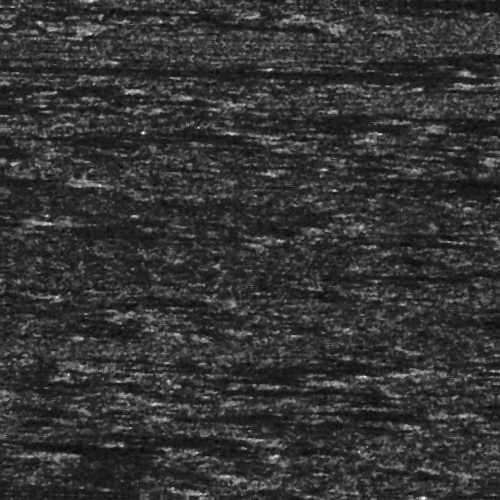object: (308, 355, 423, 378), (254, 369, 379, 388), (20, 179, 103, 188), (9, 221, 92, 230), (0, 451, 66, 462), (214, 430, 267, 441), (133, 443, 186, 454), (118, 91, 201, 98), (453, 232, 500, 241), (471, 66, 500, 79), (246, 129, 257, 138), (279, 24, 310, 27), (371, 386, 402, 389), (0, 497, 28, 500)
shadow: (38, 66, 500, 79), (178, 355, 365, 378), (47, 430, 240, 441), (0, 443, 160, 454), (283, 169, 500, 176), (341, 181, 500, 190), (253, 369, 316, 388), (122, 129, 252, 138), (0, 91, 160, 98), (370, 232, 489, 241), (391, 0, 500, 7), (0, 179, 62, 188), (0, 221, 51, 230), (262, 386, 386, 389), (342, 407, 462, 410), (0, 451, 29, 462), (229, 24, 294, 27)
